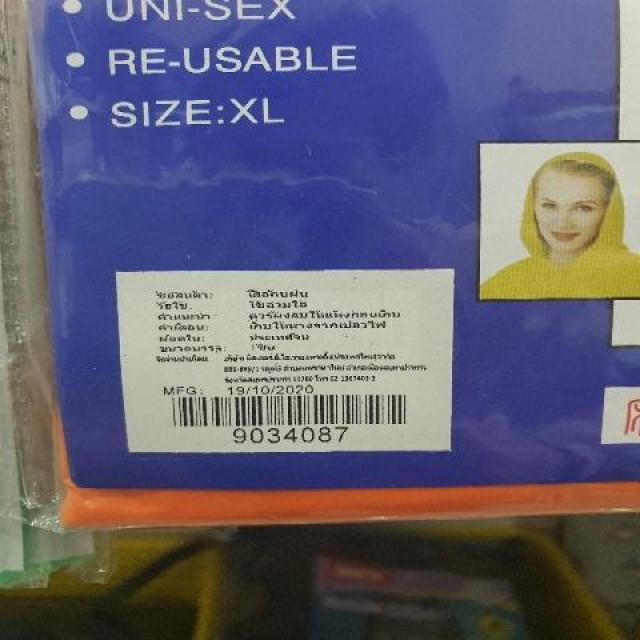Barcode: (160, 390, 423, 445)
